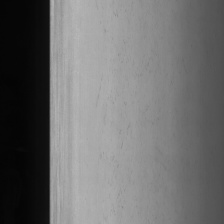silk_spot: (90, 12, 153, 193)
